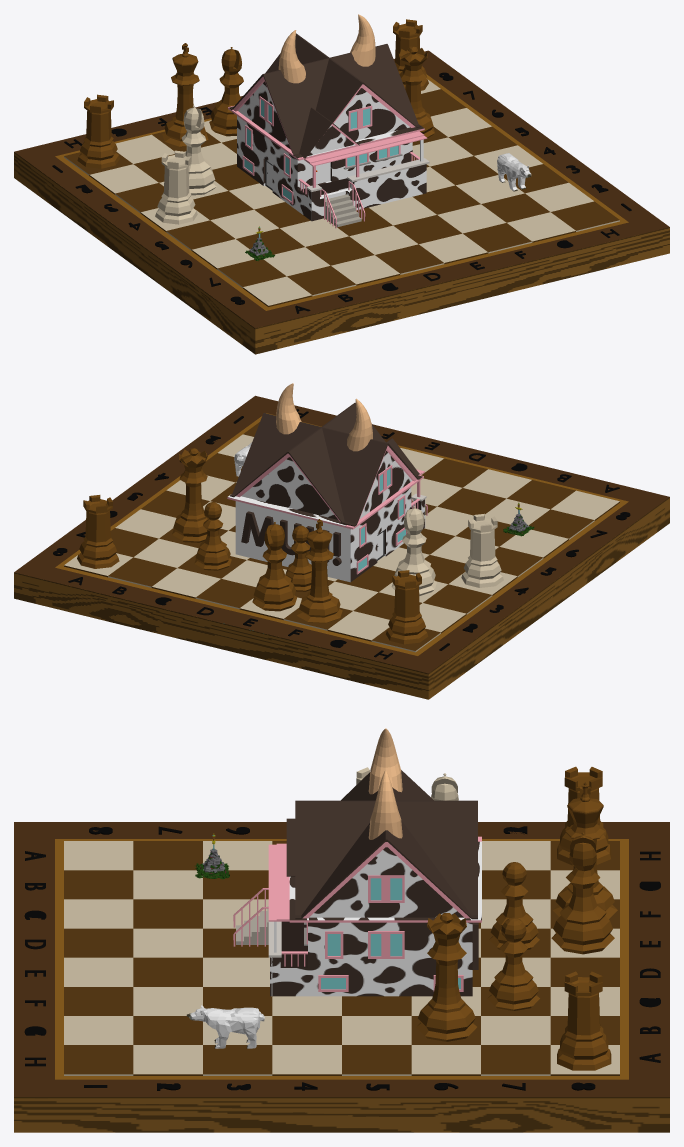
3 views of the same model, one above another, from view 1: azimuth 30°, elevation 25°; view 2: azimuth 150°, elevation 25°; view 3: azimuth 270°, elevation 25° (orthographic). The views are drawn at different scales.
Parts seen in each view (by area): view 1: Cube.002, Cube.1242, ANIMAL_OSO_POLAR; view 2: Cube.002, Cube.1242; view 3: Cube.002, Cube.1242, ANIMAL_OSO_POLAR, OBJRANDOM_SWORD_IN_THE_STONE.
Boxes of the visible parts, x1,y1,x2,y2 form: Cube.002: [14, 19, 669, 354]; Cube.1242: [228, 14, 429, 228]; ANIMAL_OSO_POLAR: [497, 153, 531, 191]; Cube.002: [14, 395, 669, 699]; Cube.1242: [227, 383, 427, 582]; Cube.002: [14, 766, 669, 1132]; Cube.1242: [233, 728, 481, 996]; ANIMAL_OSO_POLAR: [186, 1005, 264, 1048]; OBJRANDOM_SWORD_IN_THE_STONE: [195, 833, 229, 879].
Size of the model in its own units: 3981 by 1721 by 4012.
Materials: 36 (2 with a texture image).
